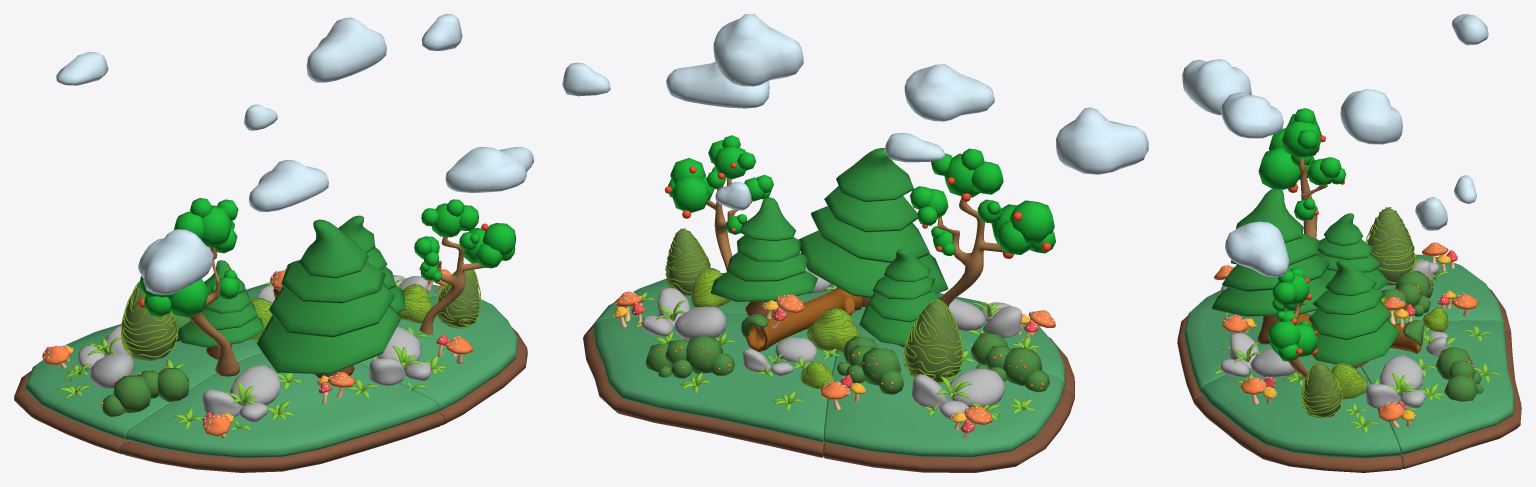
Rendered from Level_P_40.fbx.
The picture shows the model from 3 angles, left to right: view 1: azimuth 30°, elevation 25°; view 2: azimuth 150°, elevation 25°; view 3: azimuth 270°, elevation 25°; orthographic projection. The views are drawn at different scales.
Parts seen in each view (by area): view 1: sol, sol.002, sol.004, Cube.461, sol.001, Cube.462, Cube.534, Cube.451, Cube.535, Cube.463, Cube.538, BezierCurve.003 (+25 smaller); view 2: sol.003, sol.002, Cube.451, sol.005, Cube.534, sol.006, Cube.538, BezierCurve.003, Cube.461, Cube.462, Cube.535, Cube.464 (+39 smaller); view 3: sol.004, sol.003, sol, sol.007, sol.002, Cube.451, Cube.535, Cube.534, BezierCurve.003, sol.006, Cube.538, Cube.457 (+43 smaller).
Boxes of the visible parts, left/top/right/bottom form: sol: left=126, top=352, right=438, bottom=458; sol.002: left=25, top=324, right=262, bottom=439; sol.004: left=358, top=295, right=517, bottom=411; Cube.461: left=257, top=305, right=401, bottom=374; sol.001: left=119, top=413, right=444, bottom=472; Cube.462: left=269, top=282, right=394, bottom=337; Cube.534: left=138, top=229, right=213, bottom=294; Cube.451: left=306, top=17, right=386, bottom=82; Cube.535: left=445, top=146, right=533, bottom=192; Cube.463: left=281, top=259, right=385, bottom=303; Cube.538: left=249, top=160, right=328, bottom=211; BezierCurve.003: left=121, top=282, right=178, bottom=360; sol.003: left=593, top=313, right=836, bottom=442; sol.002: left=823, top=324, right=1064, bottom=457; Cube.451: left=713, top=14, right=803, bottom=86; sol.005: left=823, top=389, right=1074, bottom=472; Cube.534: left=1056, top=107, right=1148, bottom=174; sol.006: left=583, top=333, right=824, bottom=457; Cube.538: left=904, top=64, right=994, bottom=121; BezierCurve.003: left=903, top=299, right=963, bottom=383; Cube.461: left=798, top=230, right=948, bottom=297; Cube.462: left=811, top=206, right=929, bottom=262; Cube.535: left=666, top=62, right=769, bottom=108; Cube.464: left=836, top=148, right=913, bottom=201; sol.004: left=1201, top=354, right=1400, bottom=458; sol.003: left=1361, top=320, right=1514, bottom=454; sol: left=1184, top=290, right=1315, bottom=392; sol.007: left=1194, top=395, right=1402, bottom=472; sol.002: left=1378, top=254, right=1503, bottom=323; Cube.451: left=1340, top=89, right=1402, bottom=144; Cube.535: left=1225, top=221, right=1289, bottom=277; Cube.534: left=1182, top=59, right=1251, bottom=115; BezierCurve.003: left=1366, top=207, right=1415, bottom=285; sol.006: left=1400, top=330, right=1521, bottom=468; Cube.538: left=1221, top=92, right=1283, bottom=138; Cube.457: left=1311, top=319, right=1399, bottom=366.
Bounding box in the file's own units: 34.83 × 26.04 × 24.53.
